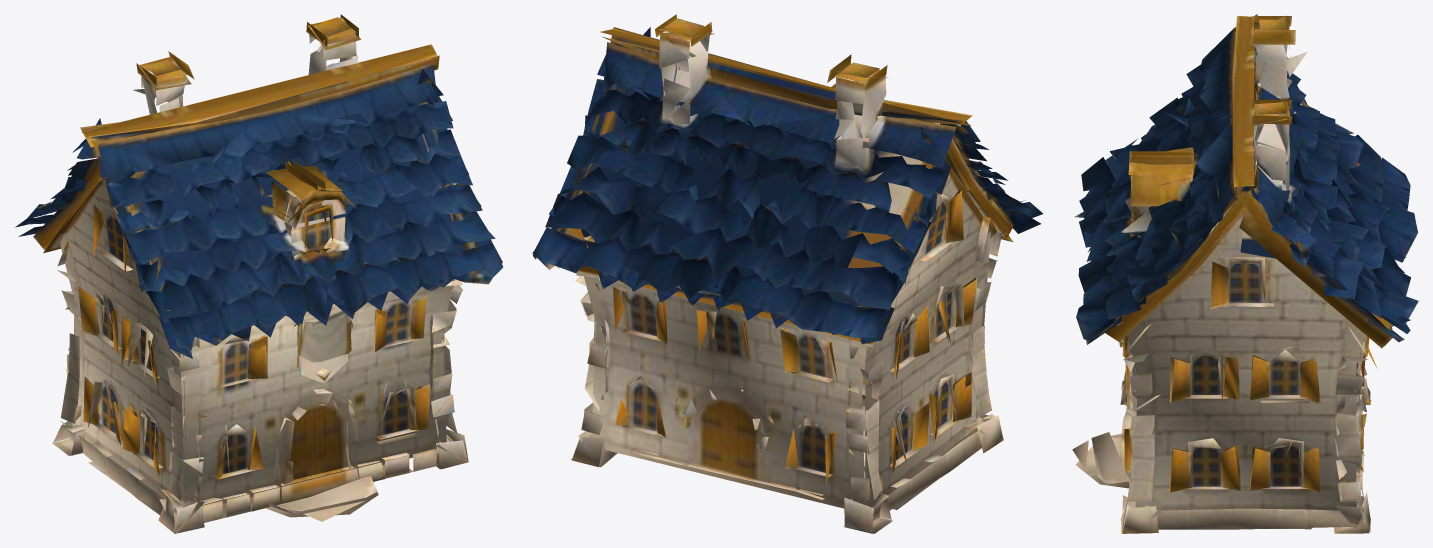
The model's file is o-service-semis.glb.
3 views of the same model, side by side, from view 1: azimuth 30°, elevation 25°; view 2: azimuth 150°, elevation 25°; view 3: azimuth 270°, elevation 25° (orthographic). The views are drawn at different scales.
Parts seen in each view (by area): view 1: o-service-semis; view 2: o-service-semis; view 3: o-service-semis.
Part boxes in pixels (x1,y1,x2,y2): o-service-semis: (15,14,503,533); o-service-semis: (532,14,1043,533); o-service-semis: (1072,14,1418,533).
Size of the model in its own units: 0.8735 by 0.9654 by 0.7472.
1 material, 1 textured.
